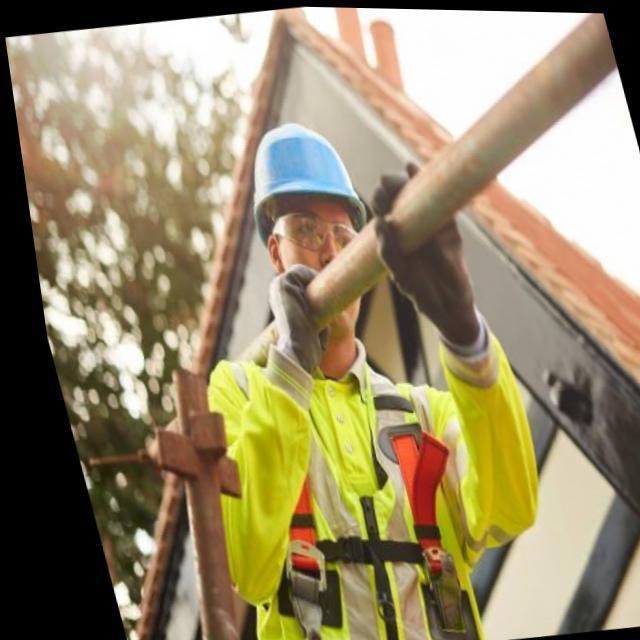belt: (180, 310, 491, 640)
